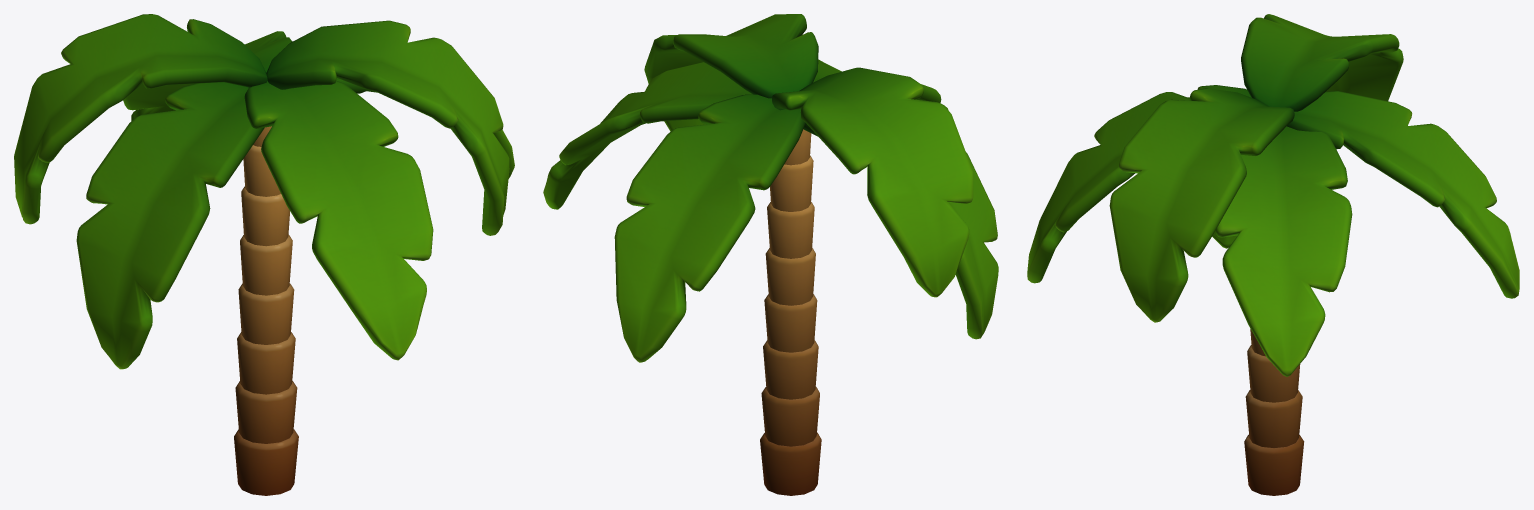
The model's file is beach_assets_tree.fbx.
The picture shows the model from 3 angles, left to right: view 1: azimuth 30°, elevation 25°; view 2: azimuth 150°, elevation 25°; view 3: azimuth 270°, elevation 25°; orthographic projection. The views are drawn at different scales.
Visible parts, largest first — view 1: beach_assets_tree; view 2: beach_assets_tree; view 3: beach_assets_tree.
Part boxes in pixels (bbox=[...]): beach_assets_tree: bbox=[14, 14, 514, 495]; beach_assets_tree: bbox=[543, 14, 998, 495]; beach_assets_tree: bbox=[1027, 14, 1519, 495].
Bounding box in the file's own units: 364 × 339 × 365.
1 material, 1 textured.
